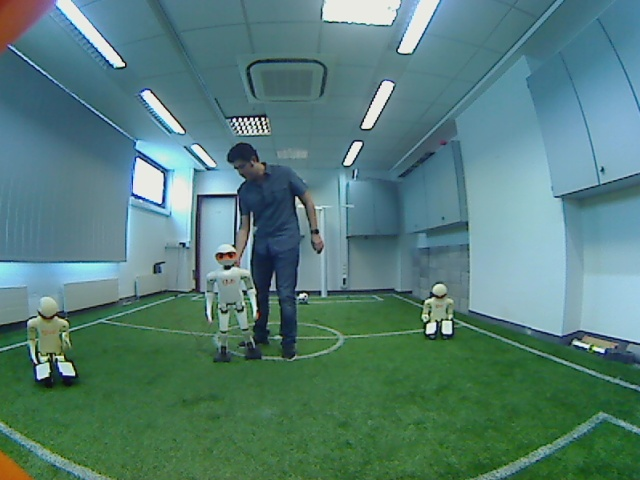ball: (293, 289, 315, 309)
robot: (199, 243, 263, 364), (19, 291, 88, 387), (413, 281, 461, 347)
